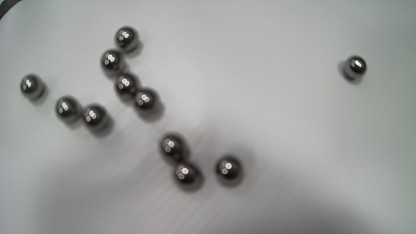ironball: (160, 133, 185, 162), (82, 104, 109, 130), (19, 74, 45, 100), (55, 96, 80, 123), (100, 49, 125, 76), (114, 73, 139, 100), (115, 26, 139, 52), (215, 155, 241, 179), (343, 55, 366, 79), (174, 162, 199, 184), (134, 88, 156, 110)
